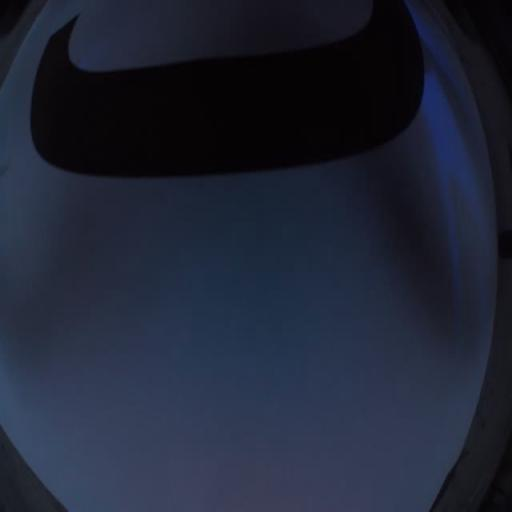J: (28, 0, 426, 179)
